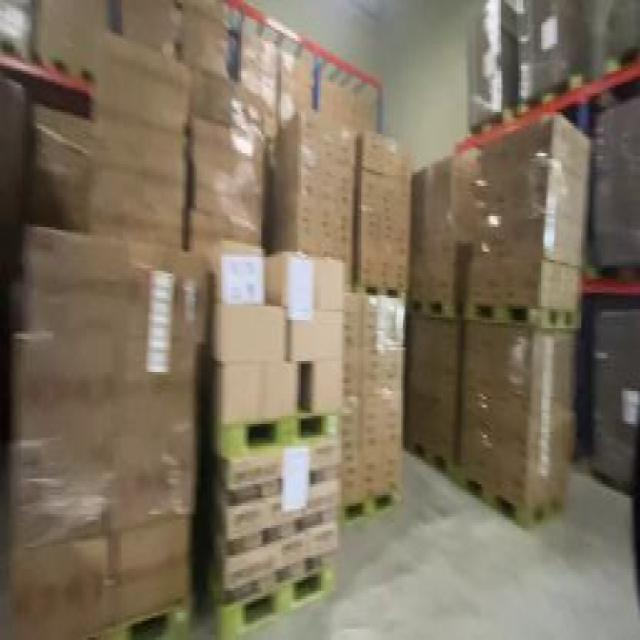box: (15, 227, 200, 637), (403, 150, 580, 530), (206, 249, 339, 618), (91, 38, 183, 266), (189, 74, 269, 282), (272, 117, 363, 296), (339, 290, 403, 525), (115, 3, 232, 98), (586, 298, 639, 490), (354, 128, 412, 301), (591, 90, 638, 282), (237, 33, 317, 134), (458, 3, 516, 134), (518, 0, 576, 104), (28, 0, 110, 71), (318, 77, 380, 142)
